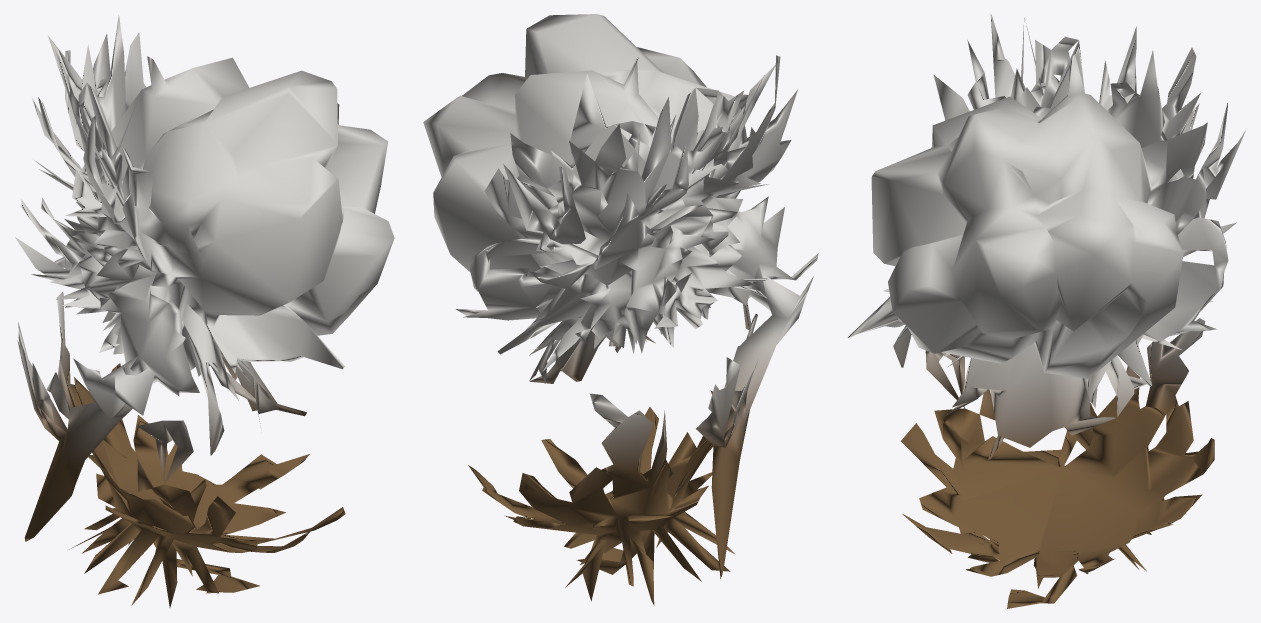
Rendered from cotton3-lo.glb.
3 views of the same model, side by side, from view 1: azimuth 30°, elevation 25°; view 2: azimuth 150°, elevation 25°; view 3: azimuth 270°, elevation 25° (orthographic). The views are drawn at different scales.
Size of the model in its own units: 1.27 by 2.03 by 1.35.
